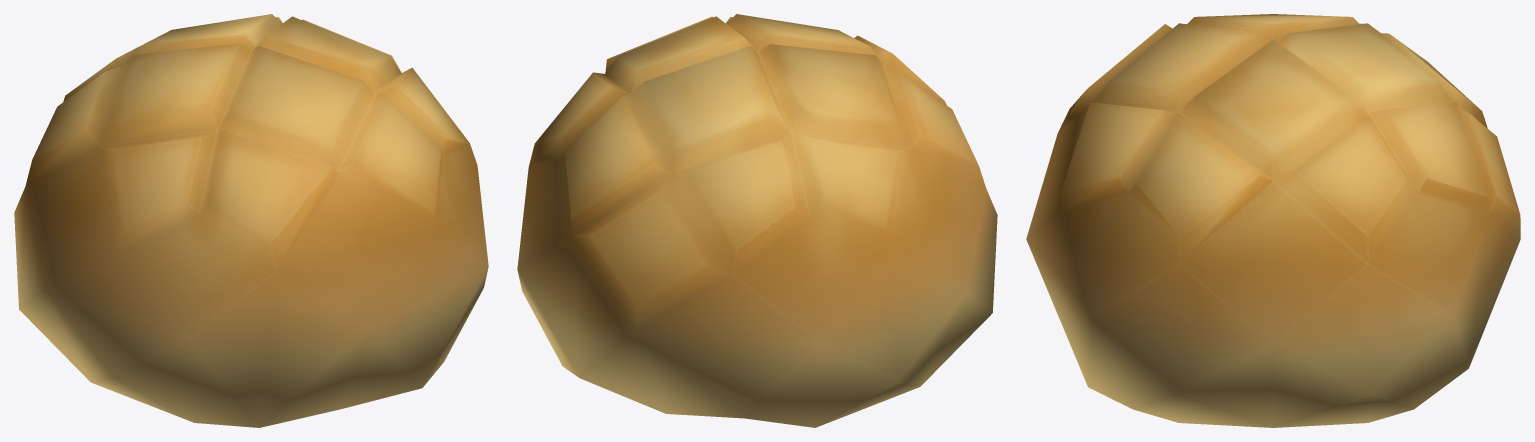
The model's file is Bakery_Breads_04.fbx.
3 renders of one model, left to right at view 1: azimuth 30°, elevation 25°; view 2: azimuth 150°, elevation 25°; view 3: azimuth 270°, elevation 25°, orthographic. The views are drawn at different scales.
Parts seen in each view (by area): view 1: Bakery_Breads_04; view 2: Bakery_Breads_04; view 3: Bakery_Breads_04.
Boxes of the visible parts, bbox=[...] form: Bakery_Breads_04: bbox=[14, 14, 488, 427]; Bakery_Breads_04: bbox=[517, 14, 997, 427]; Bakery_Breads_04: bbox=[1026, 14, 1520, 427].
Size of the model in its own units: 29.07 by 21.77 by 29.07.
